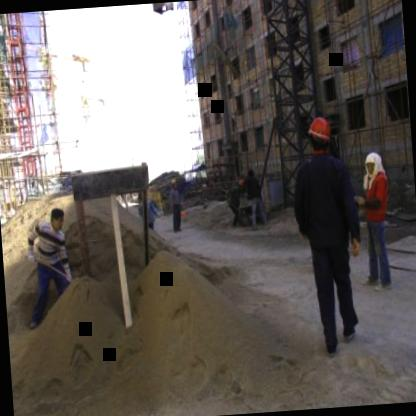helmet: (306, 114, 333, 154)
